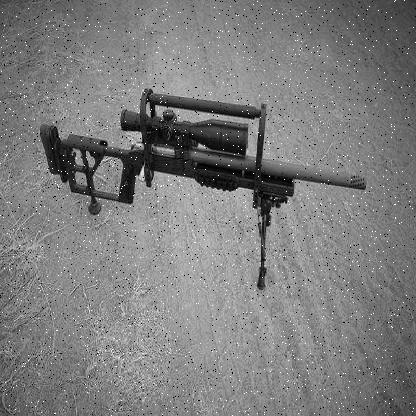rifle: (31, 84, 375, 293)
